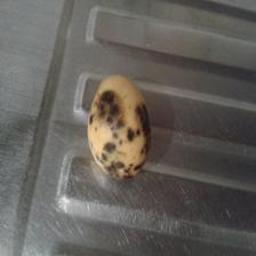Mango Rotten: (78, 72, 169, 183)
